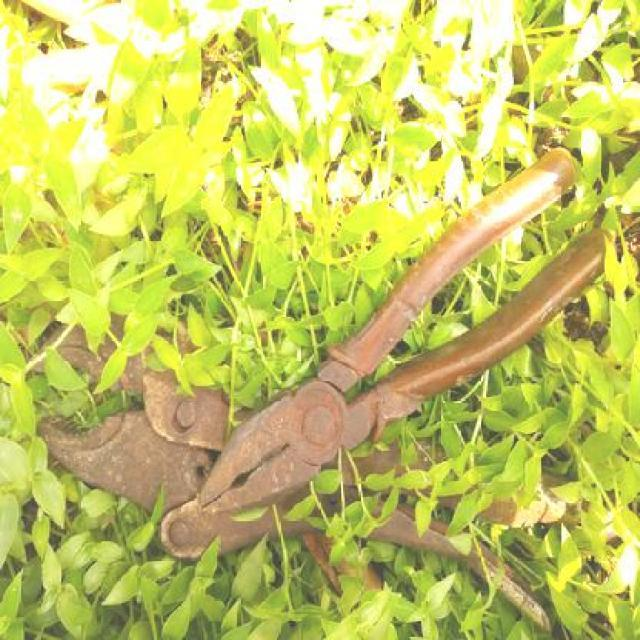pliers: (199, 144, 619, 514)
